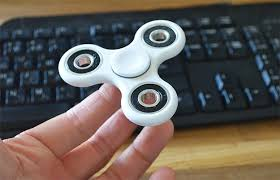fidget_spinner: (47, 13, 191, 123)
